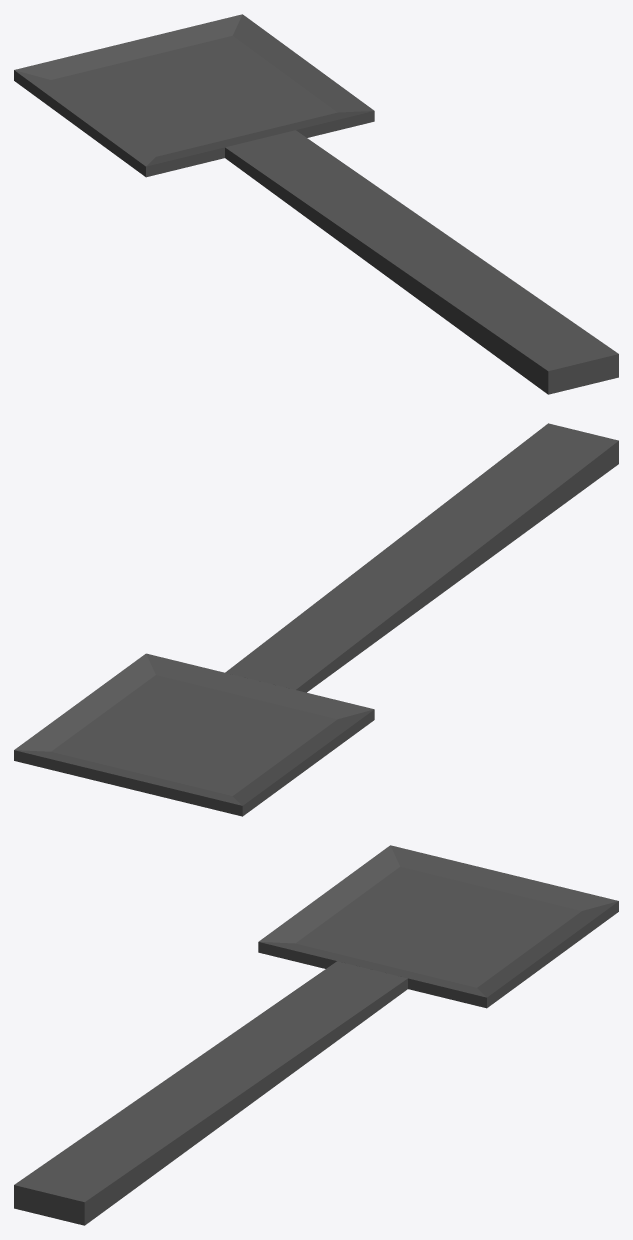
File: Itr_Obj_Spoon_04.FBX
3 renders of one model, top to bottom at view 1: azimuth 30°, elevation 25°; view 2: azimuth 150°, elevation 25°; view 3: azimuth 330°, elevation 25°, orthographic.
Parts seen in each view (by area): view 1: Itr_Obj_Spoon_04; view 2: Itr_Obj_Spoon_04; view 3: Itr_Obj_Spoon_04.
Part boxes in pixels (x1,y1,x2,y2): Itr_Obj_Spoon_04: (14,14,618,394); Itr_Obj_Spoon_04: (14,423,618,816); Itr_Obj_Spoon_04: (14,845,618,1225).
Bounding box in the file's own units: 1.41 × 0.1387 × 4.87.
